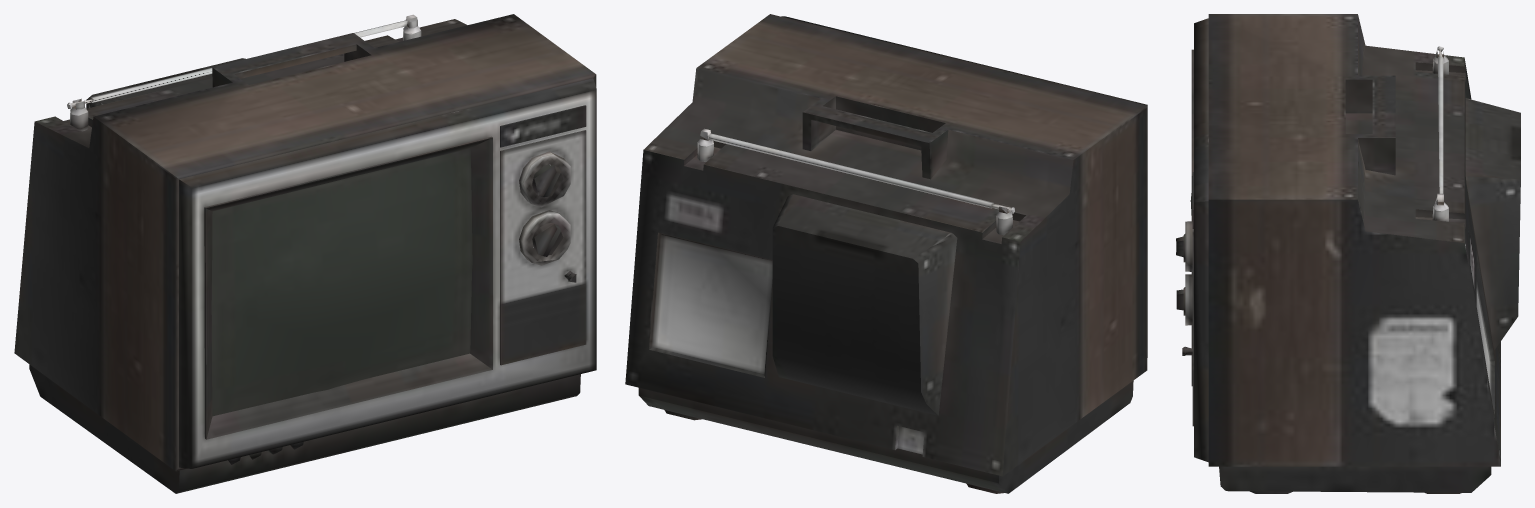
The model's file is th_retro_tv.glb.
The picture shows the model from 3 angles, left to right: view 1: azimuth 30°, elevation 25°; view 2: azimuth 150°, elevation 25°; view 3: azimuth 270°, elevation 25°; orthographic projection. The views are drawn at different scales.
Parts seen in each view (by area): view 1: Television_01; view 2: Television_01; view 3: Television_01.
Boxes of the visible parts, x1=… form: Television_01: x1=14, y1=14, x2=596, y2=493; Television_01: x1=625, y1=14, x2=1147, y2=493; Television_01: x1=1176, y1=14, x2=1520, y2=493.
Bounding box in the file's own units: 0.6 × 0.4568 × 0.4708.
1 material, 1 textured.
